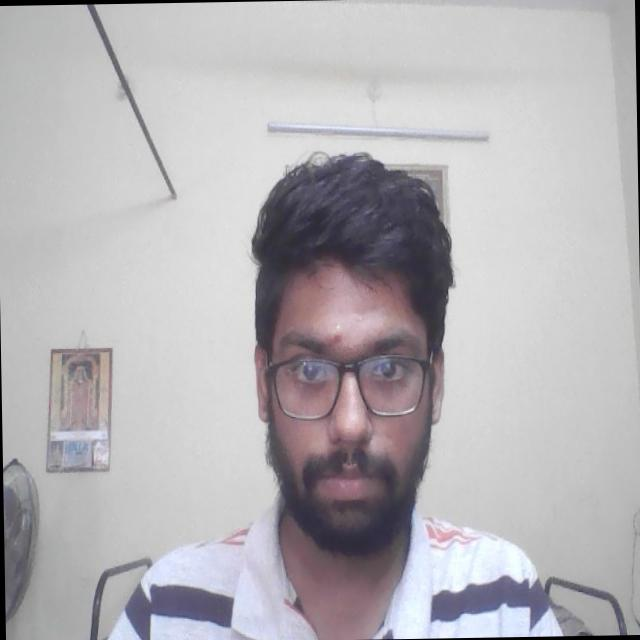Focused: (265, 290, 434, 514)
